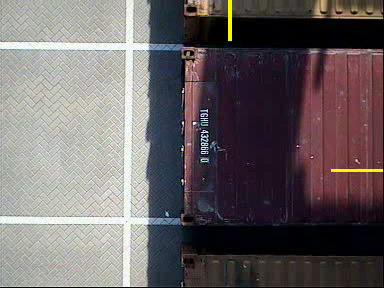groundmarker_2: (127, 165, 197, 214)
